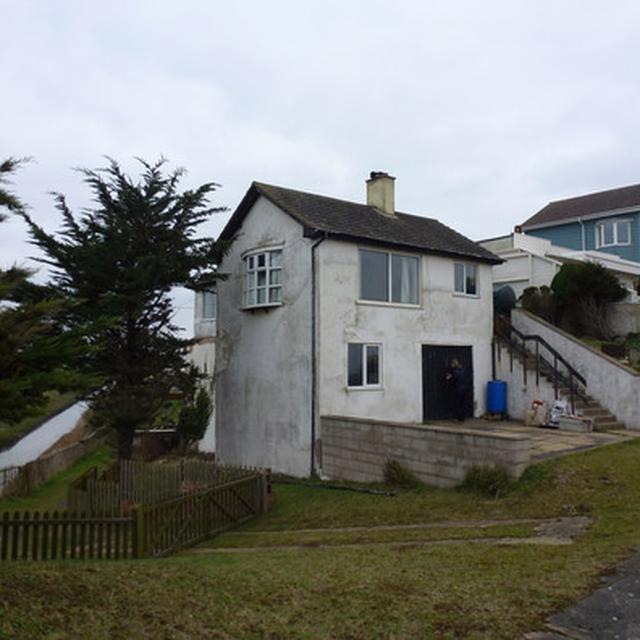building: (209, 167, 495, 480), (511, 183, 640, 322)
